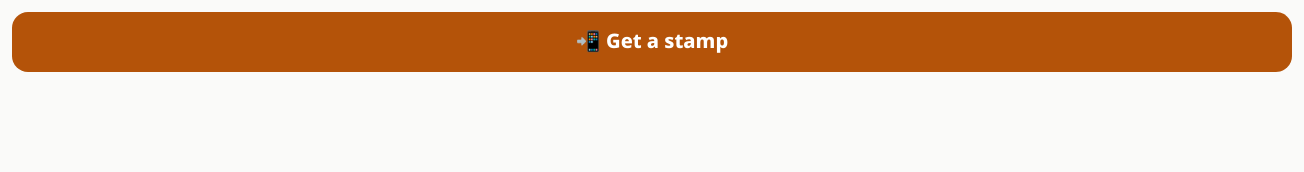
it: CollectStamp › with Web NFC, reading the shop's tag opens the stamp page
Later steps or results of the test are not shown.
Click the button "📲 Get a stamp" at (652, 42), box [12, 12, 1292, 72]
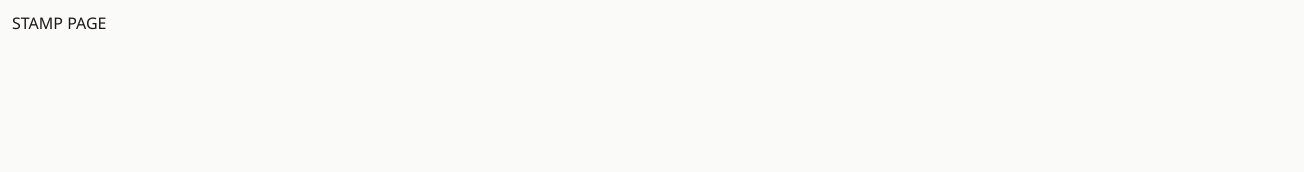
Result: the text "STAMP PAGE" is shown at [12, 12, 106, 36]
